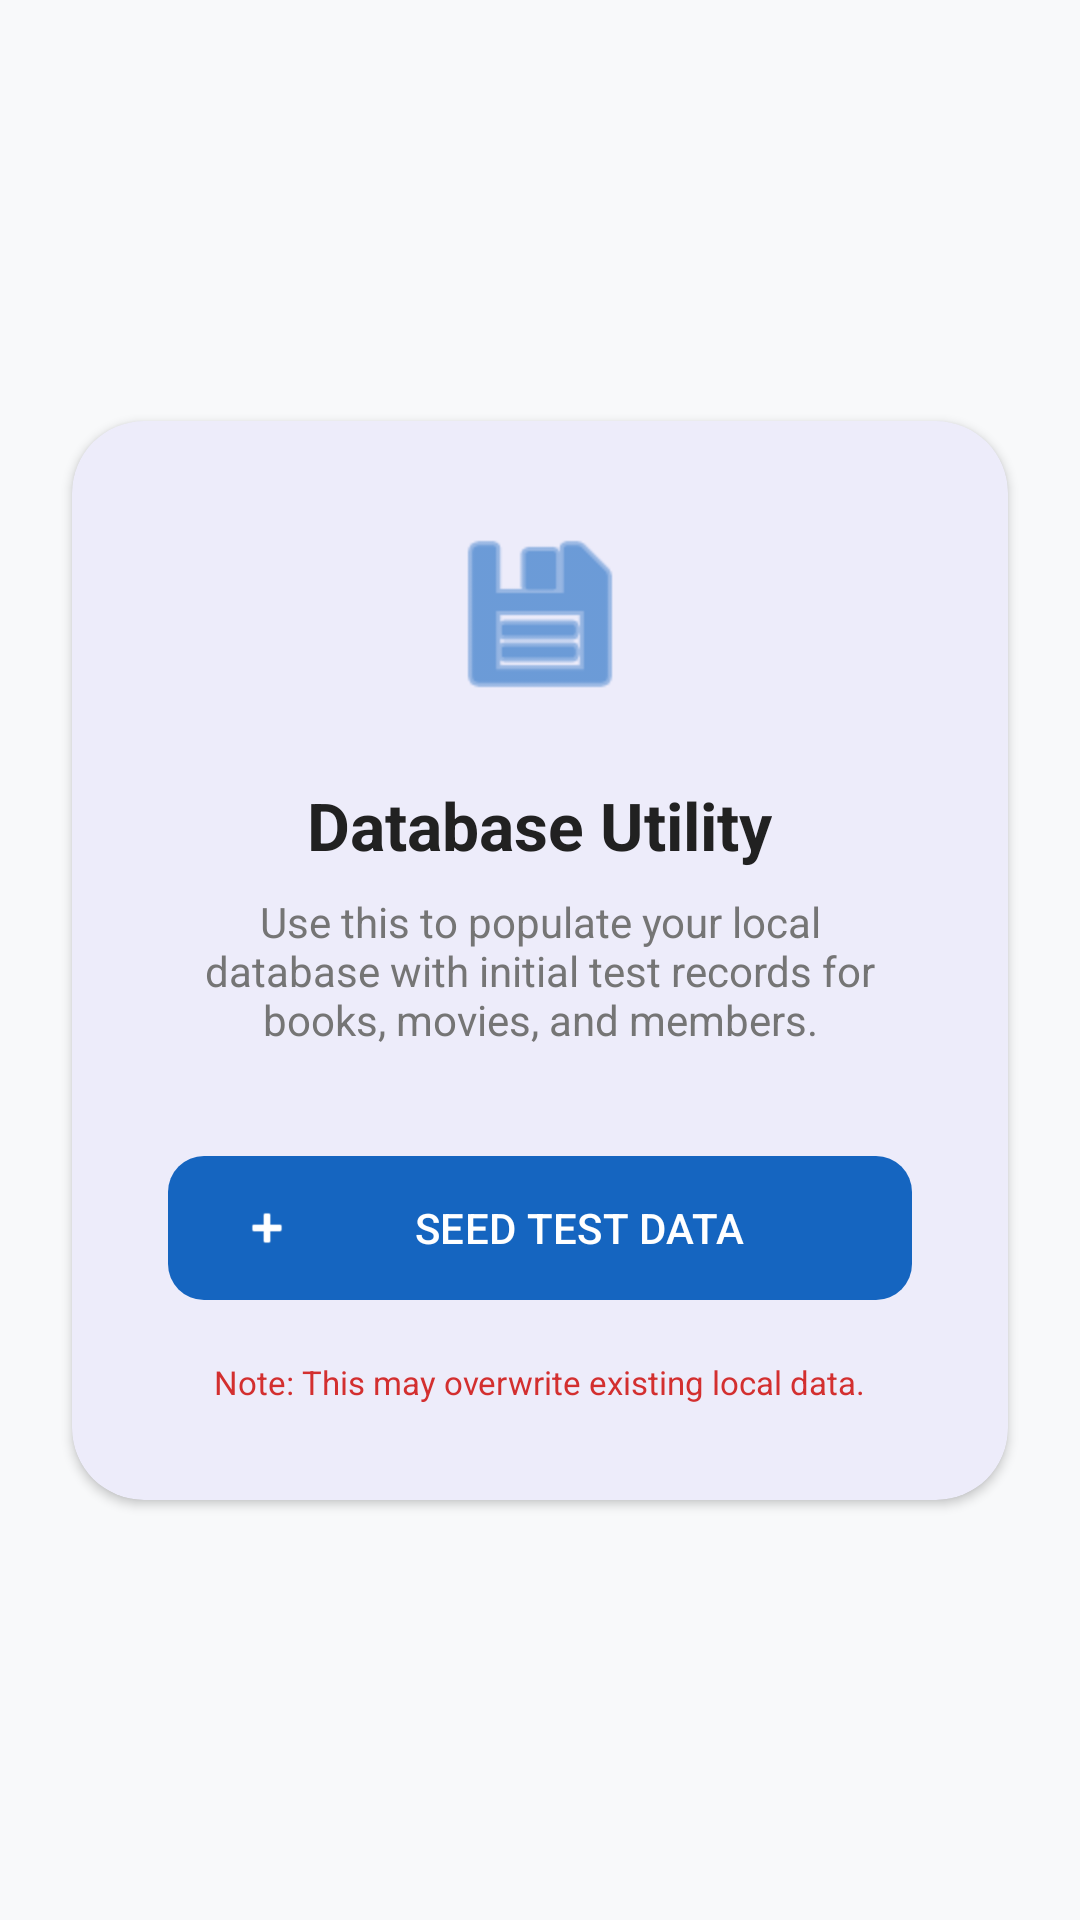

Icon bounding boxes for this 1080×1920 phone screenshot, format (x1, y1, x2, y2):
save: (468, 541, 612, 687)
